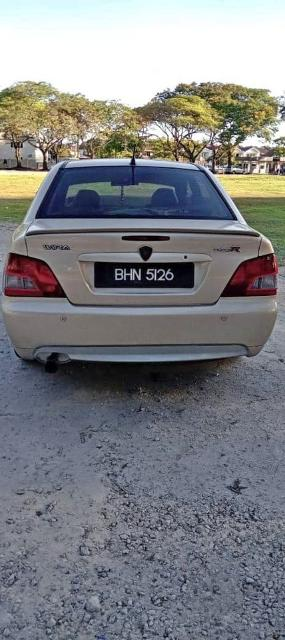License_Plate: (96, 262, 200, 289)
car: (4, 155, 285, 383)
